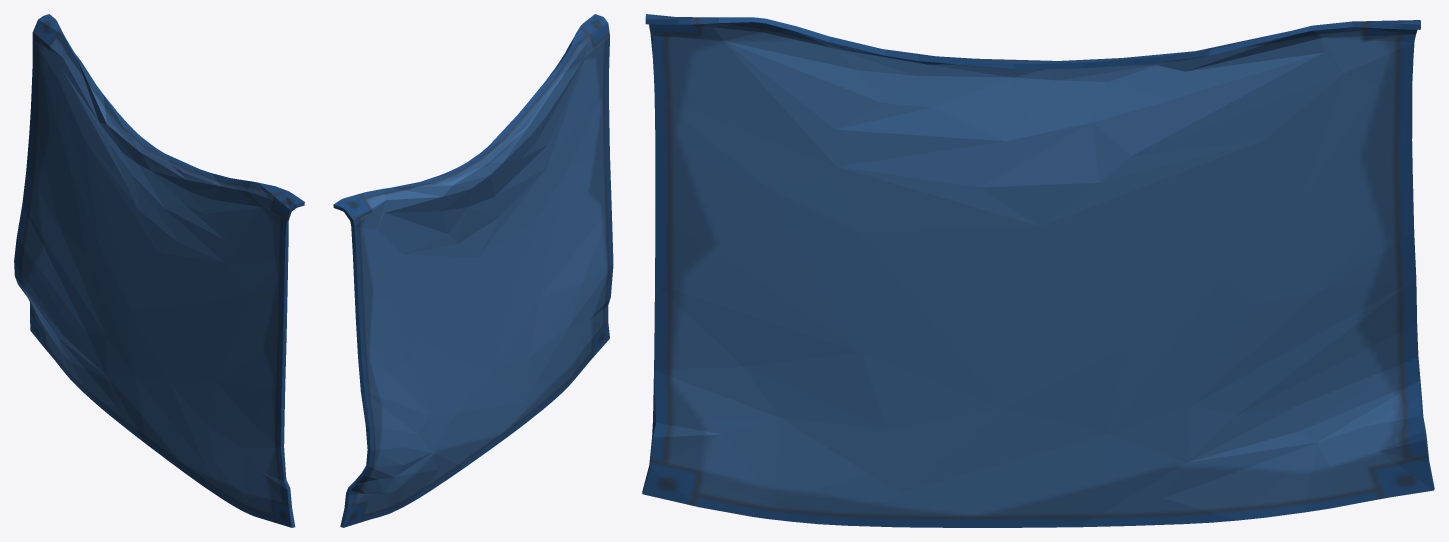
The model's file is SM_Prop_Scaffold_Stackable_01_Tarp_1.fbx.
3 views of the same model, side by side, from view 1: azimuth 30°, elevation 25°; view 2: azimuth 150°, elevation 25°; view 3: azimuth 270°, elevation 25° (orthographic). The views are drawn at different scales.
Parts seen in each view (by area): view 1: SM_Prop_Scaffold_Stackable_01_Tarp_1; view 2: SM_Prop_Scaffold_Stackable_01_Tarp_1; view 3: SM_Prop_Scaffold_Stackable_01_Tarp_1.
Boxes of the visible parts, x1,y1,x2,y2 form: SM_Prop_Scaffold_Stackable_01_Tarp_1: (14, 14, 304, 527); SM_Prop_Scaffold_Stackable_01_Tarp_1: (333, 14, 613, 527); SM_Prop_Scaffold_Stackable_01_Tarp_1: (642, 14, 1434, 527).
Size of the model in its own units: 27.16 by 247 by 344.
